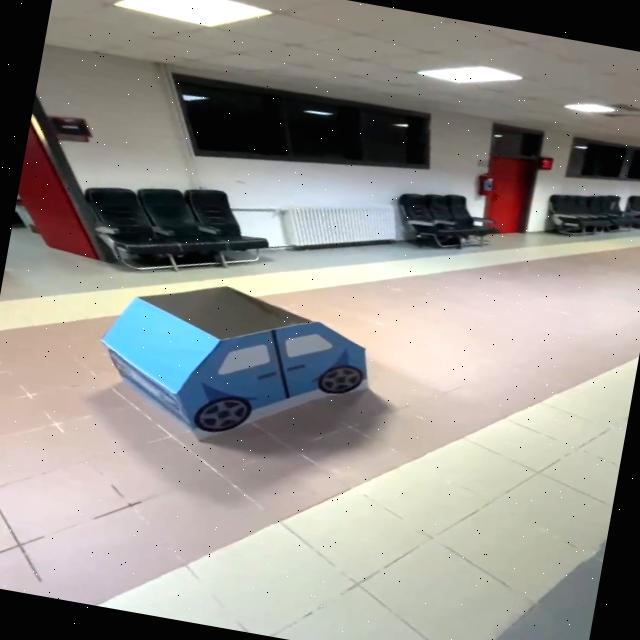blue_car: (73, 259, 403, 476)
